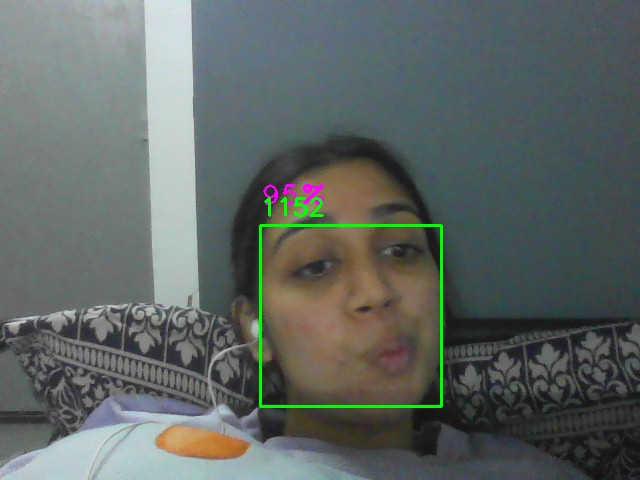real: (260, 225, 442, 407)
